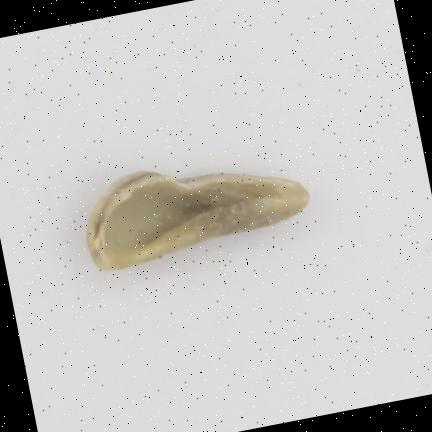shell: (88, 171, 308, 268)
